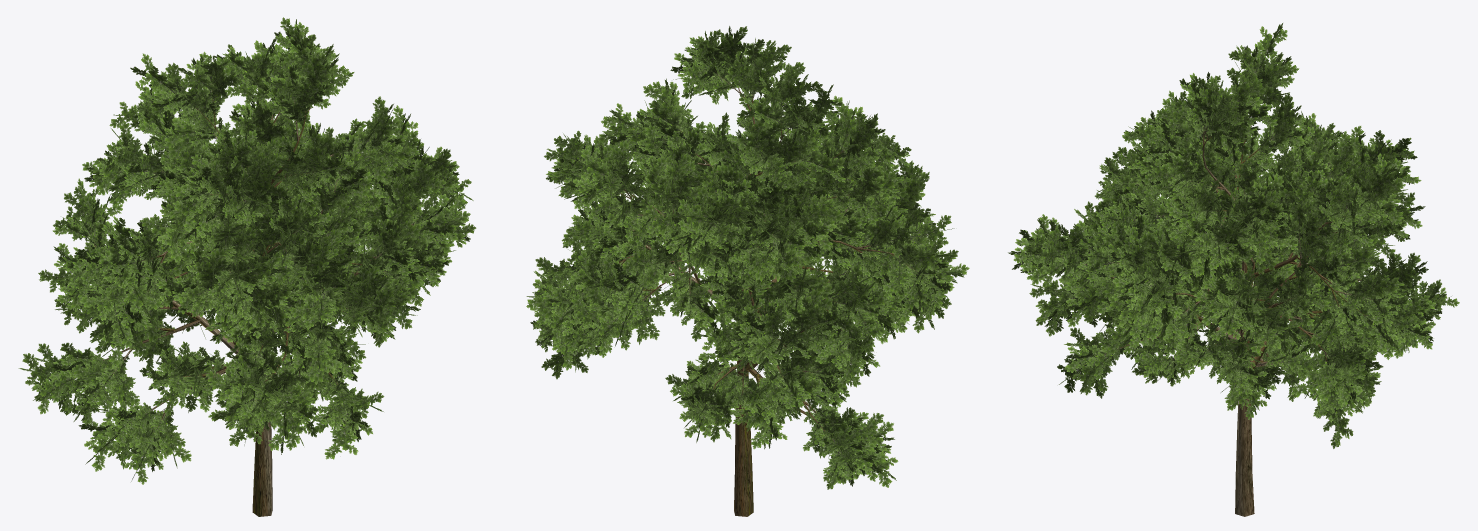
Rendered from tree-oak.glb.
3 views of the same model, side by side, from view 1: azimuth 30°, elevation 25°; view 2: azimuth 150°, elevation 25°; view 3: azimuth 270°, elevation 25° (orthographic). The views are drawn at different scales.
Parts seen in each view (by area): view 1: Tree; view 2: Tree; view 3: Tree.
Part boxes in pixels (x1,y1,x2,y2): Tree: (18, 17, 476, 516); Tree: (526, 26, 969, 516); Tree: (1008, 23, 1459, 516).
Size of the model in its own units: 64.67 by 70.45 by 63.45.
Materials: 2 (2 with a texture image).
